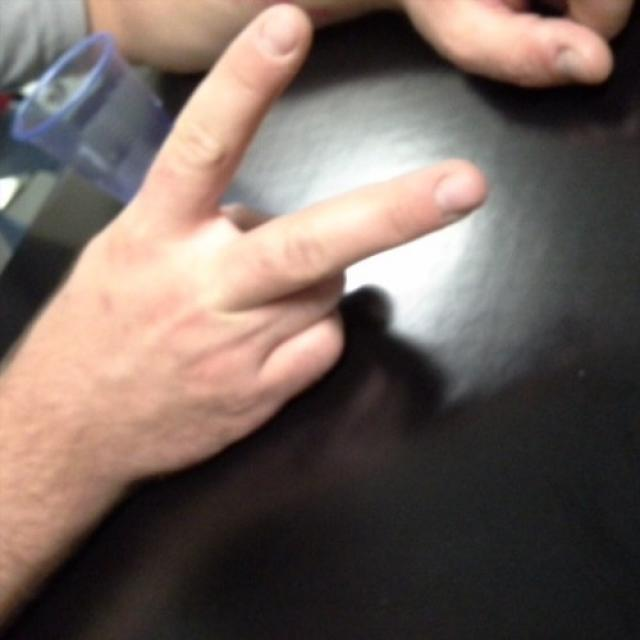scissors: (70, 1, 486, 470)
